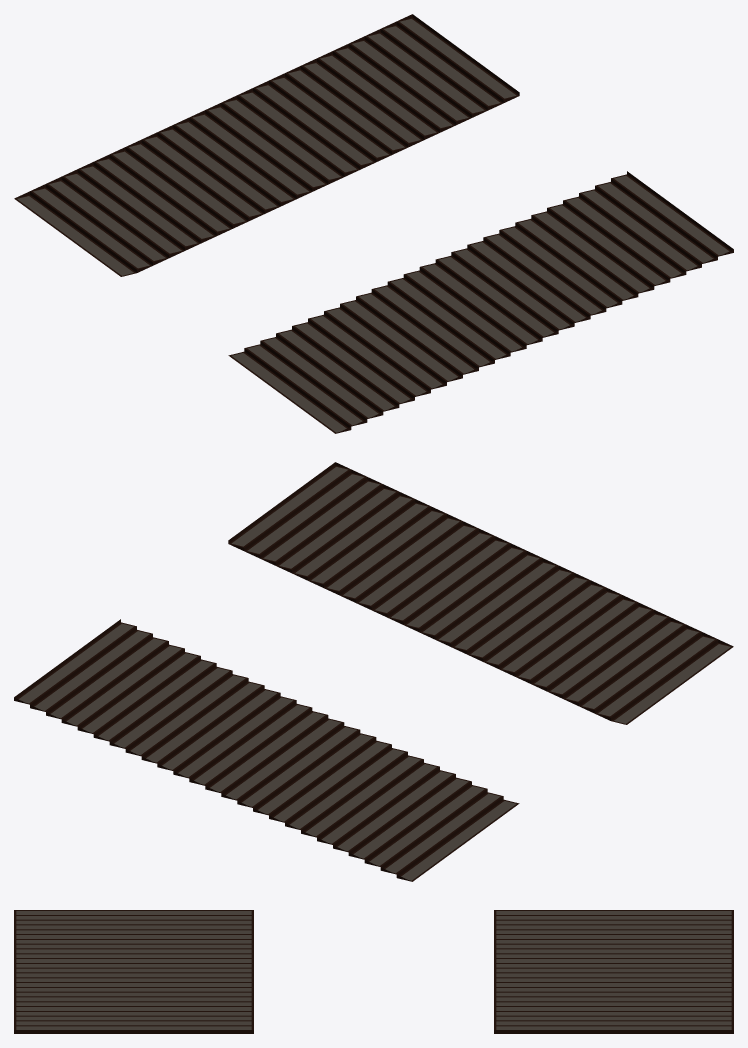
Rendered from 04_EscalerasDobles.fbx.
3 views of the same model, one above another, from view 1: azimuth 30°, elevation 25°; view 2: azimuth 150°, elevation 25°; view 3: azimuth 270°, elevation 25° (orthographic). The views are drawn at different scales.
Visible parts, largest first — view 1: 04_EscalerasDobles; view 2: 04_EscalerasDobles; view 3: 04_EscalerasDobles.
Boxes of the visible parts, x1,y1,x2,y2 form: 04_EscalerasDobles: (14, 14, 733, 433); 04_EscalerasDobles: (14, 462, 733, 881); 04_EscalerasDobles: (14, 910, 733, 1033).
Bounding box in the file's own units: 2059 × 431 × 2877.
